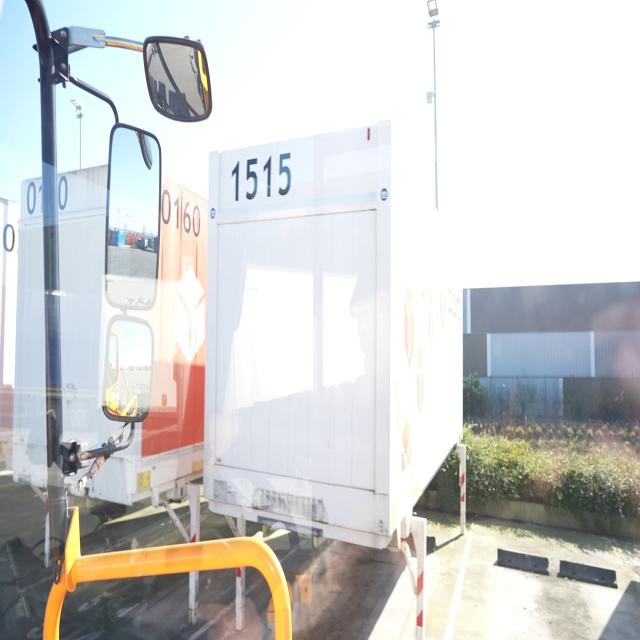Code: (228, 145, 298, 202), (159, 181, 205, 240)
